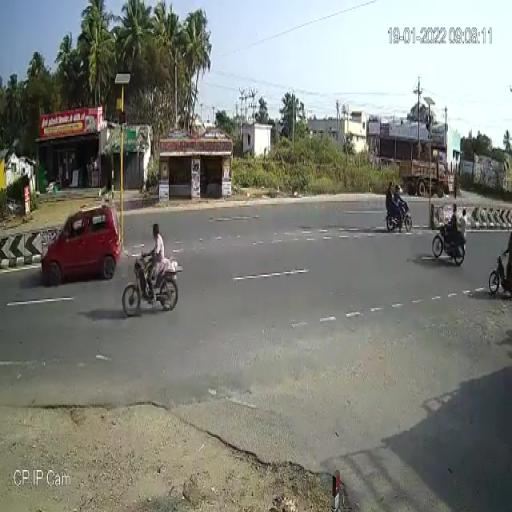小汽车: (41, 203, 123, 283)
自行车: (122, 227, 180, 314), (431, 208, 468, 264), (485, 235, 512, 299), (385, 181, 413, 236)
